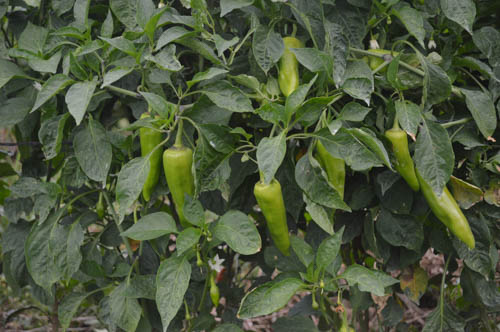ChiliPepper: (417, 163, 477, 250), (163, 149, 198, 224), (253, 179, 286, 254), (315, 139, 347, 208), (138, 114, 162, 202), (384, 131, 419, 188), (276, 37, 301, 103)
